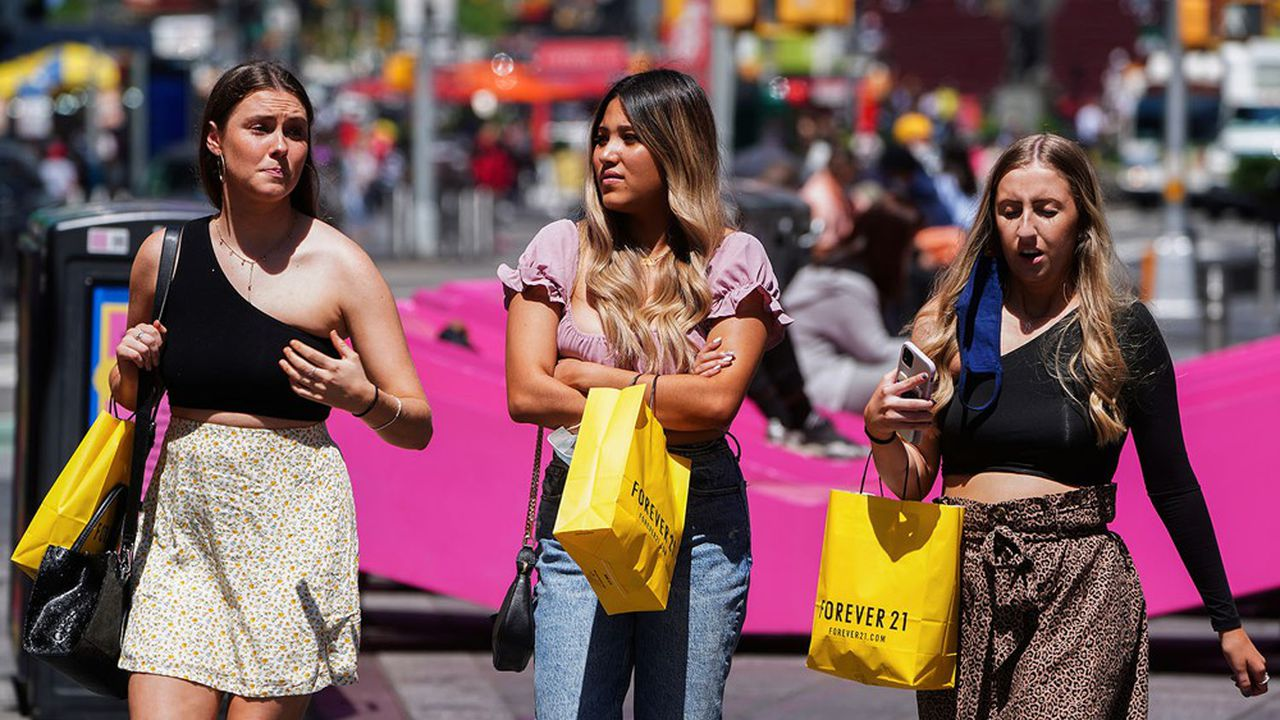without_mask: (988, 171, 1103, 277), (581, 91, 676, 217), (233, 88, 313, 208)
